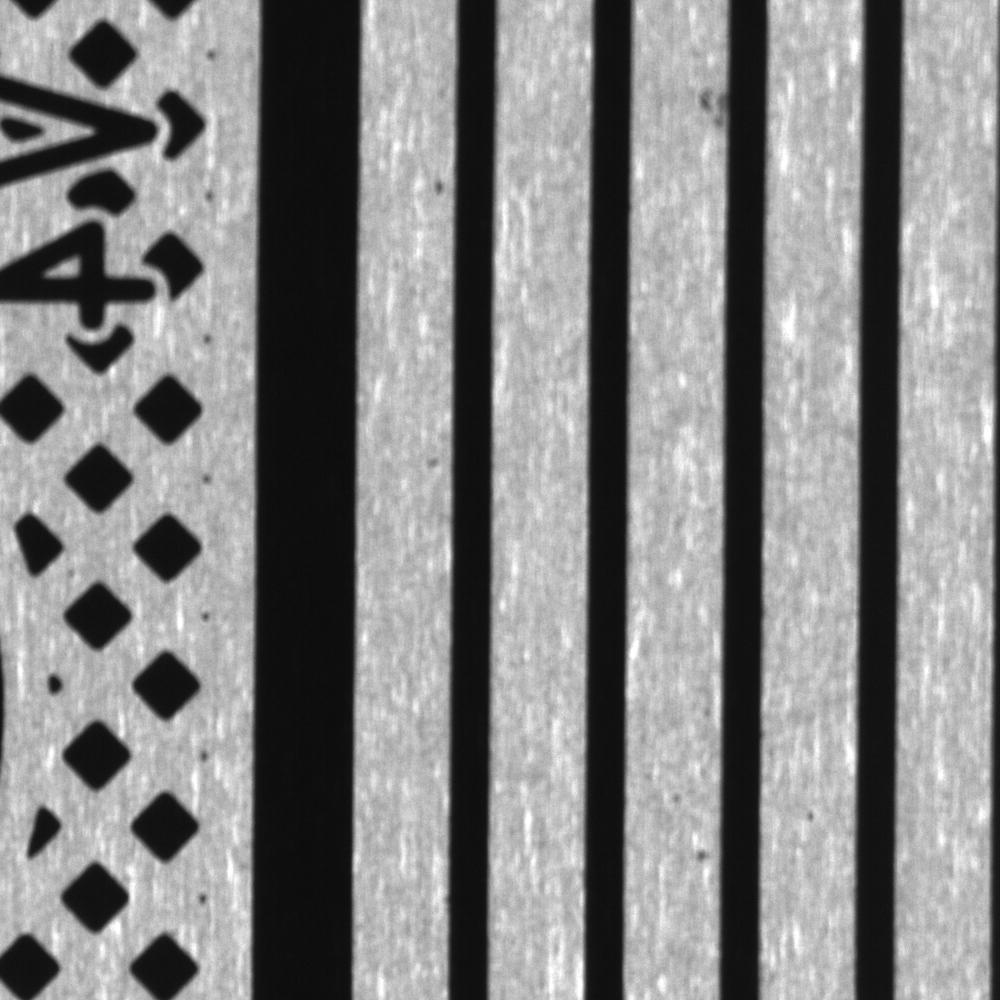Etching: (679, 60, 736, 147), (413, 440, 451, 483), (425, 167, 451, 205)
Pinhole: (681, 830, 719, 883), (795, 795, 831, 837), (660, 785, 690, 812)
